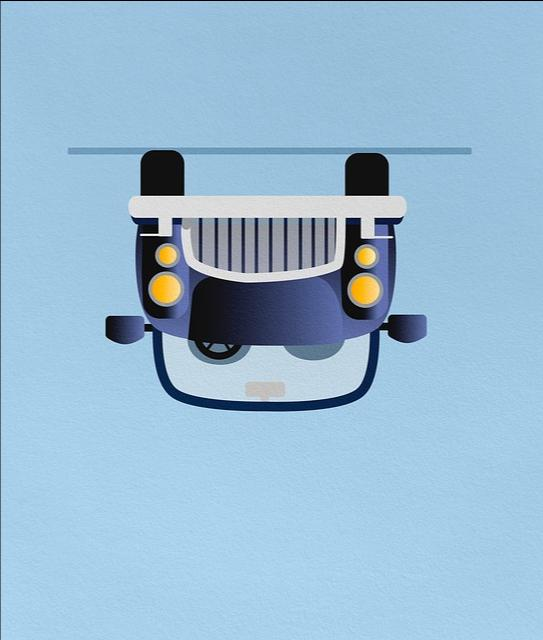Non_Gorille: (28, 28, 515, 580)
